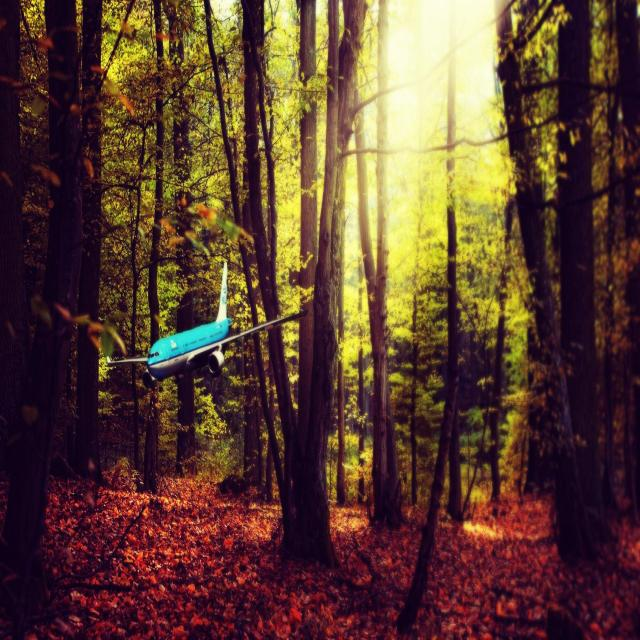airplane: (105, 259, 308, 388)
